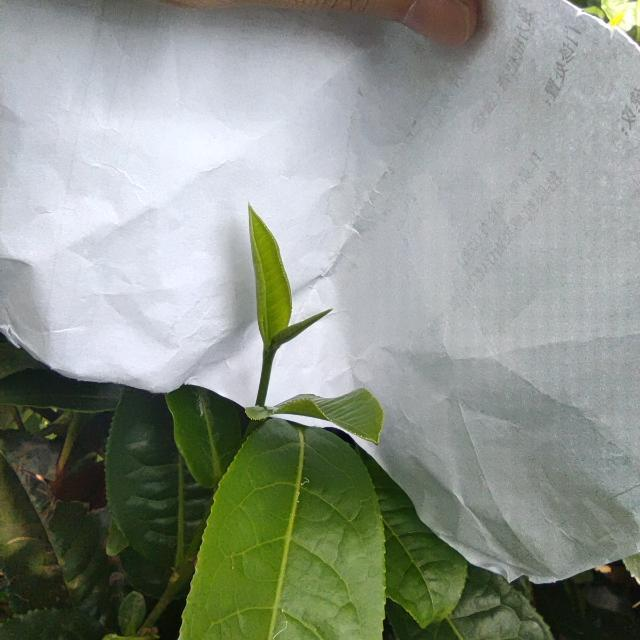Stem: (262, 354, 274, 367)
